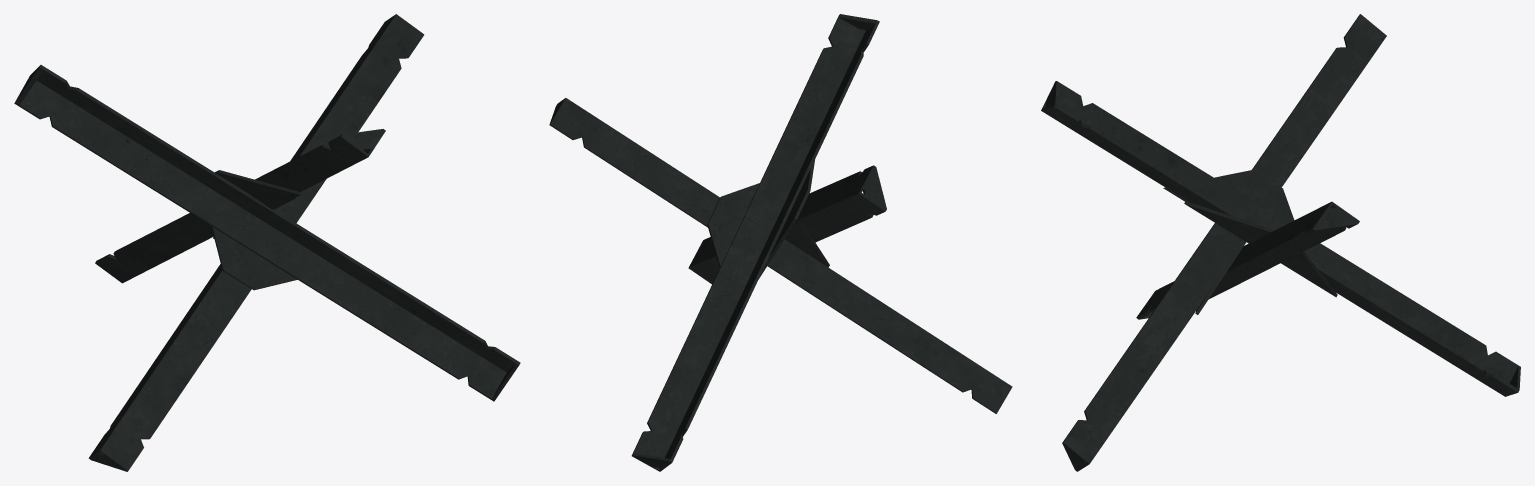
File: hedgehog.glb
3 renders of one model, left to right at view 1: azimuth 30°, elevation 25°; view 2: azimuth 150°, elevation 25°; view 3: azimuth 270°, elevation 25°, orthographic. The views are drawn at different scales.
Visible parts, largest first — view 1: Object_6; view 2: Object_6; view 3: Object_6.
Part boxes in pixels (x1,y1,x2,y2): Object_6: (14, 14, 520, 471); Object_6: (549, 14, 1012, 471); Object_6: (1041, 14, 1520, 471).
Size of the model in its own units: 1.62 by 1.25 by 1.68.
1 material, 1 textured.
